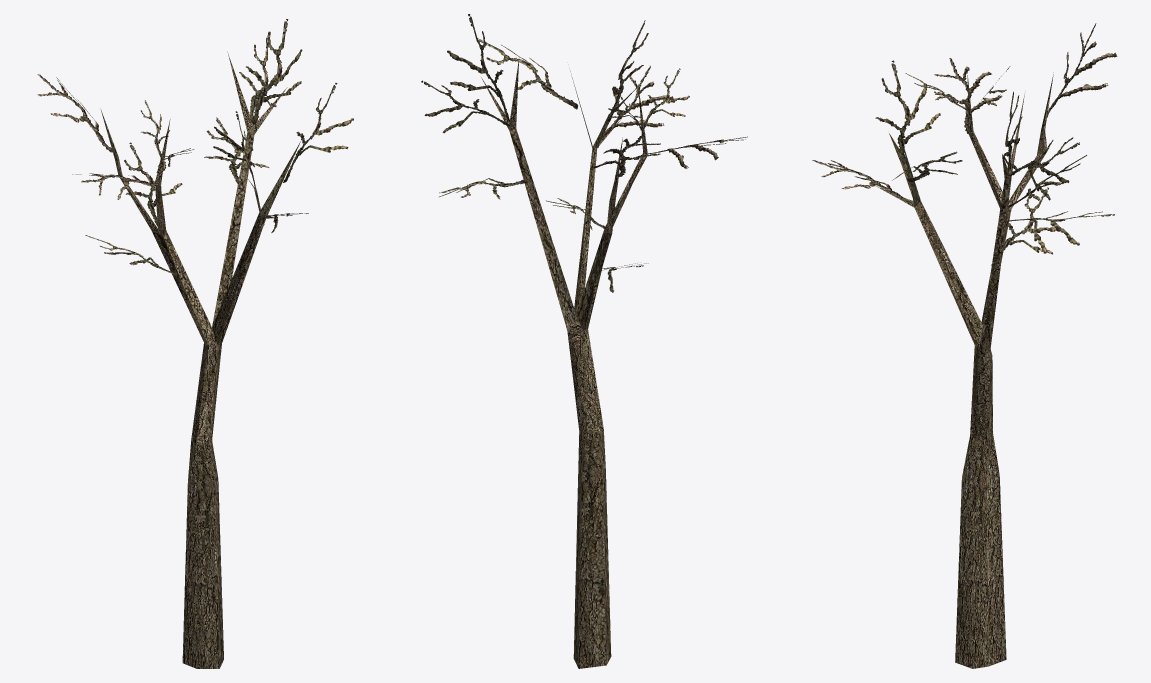
The model's file is 0ad-ancient.5dec8b5eb0ab.dead-tree.glb.
3 renders of one model, left to right at view 1: azimuth 30°, elevation 25°; view 2: azimuth 150°, elevation 25°; view 3: azimuth 270°, elevation 25°, orthographic. The views are drawn at different scales.
Visible parts, largest first — view 1: flora/trees/tree_dead.xml; view 2: flora/trees/tree_dead.xml; view 3: flora/trees/tree_dead.xml.
Boxes of the visible parts, x1=… form: flora/trees/tree_dead.xml: x1=37, y1=19, x2=353, y2=668; flora/trees/tree_dead.xml: x1=421, y1=14, x2=747, y2=668; flora/trees/tree_dead.xml: x1=812, y1=23, x2=1117, y2=668.
Bounding box in the file's own units: 14.97 × 30 × 14.57.
Materials: 1 (1 with a texture image).
